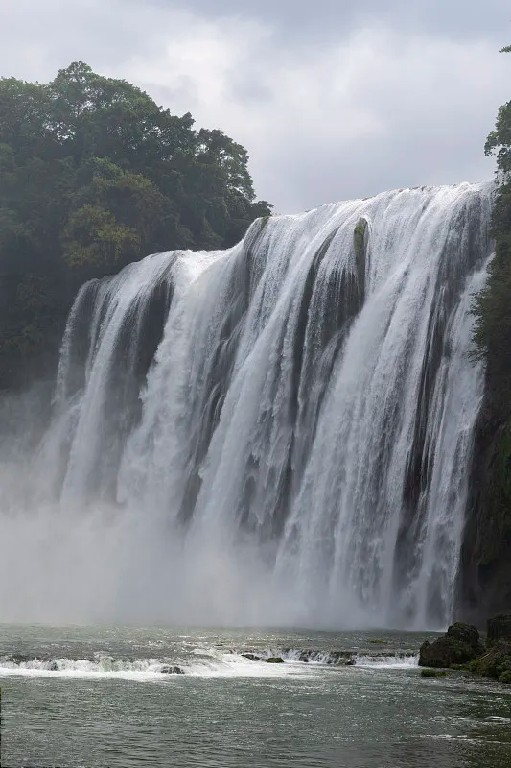Huangguoshu: (40, 185, 495, 626)
